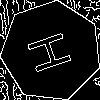H: (26, 26, 82, 76)
